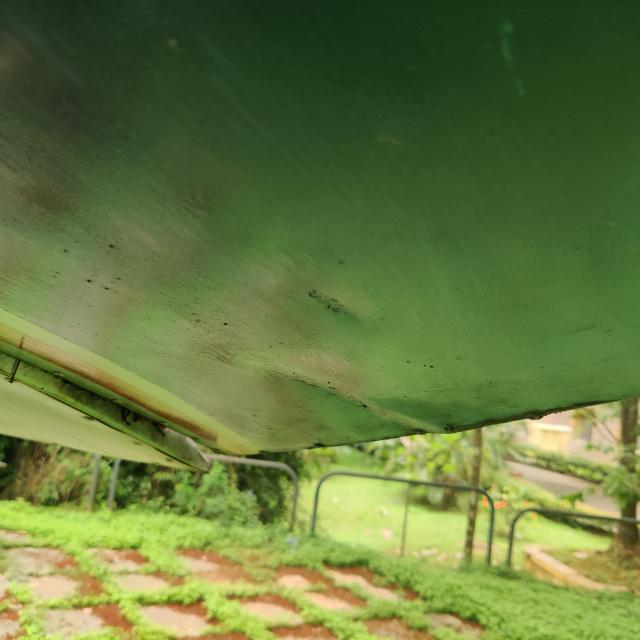dent: (239, 328, 480, 461), (286, 252, 388, 346)
